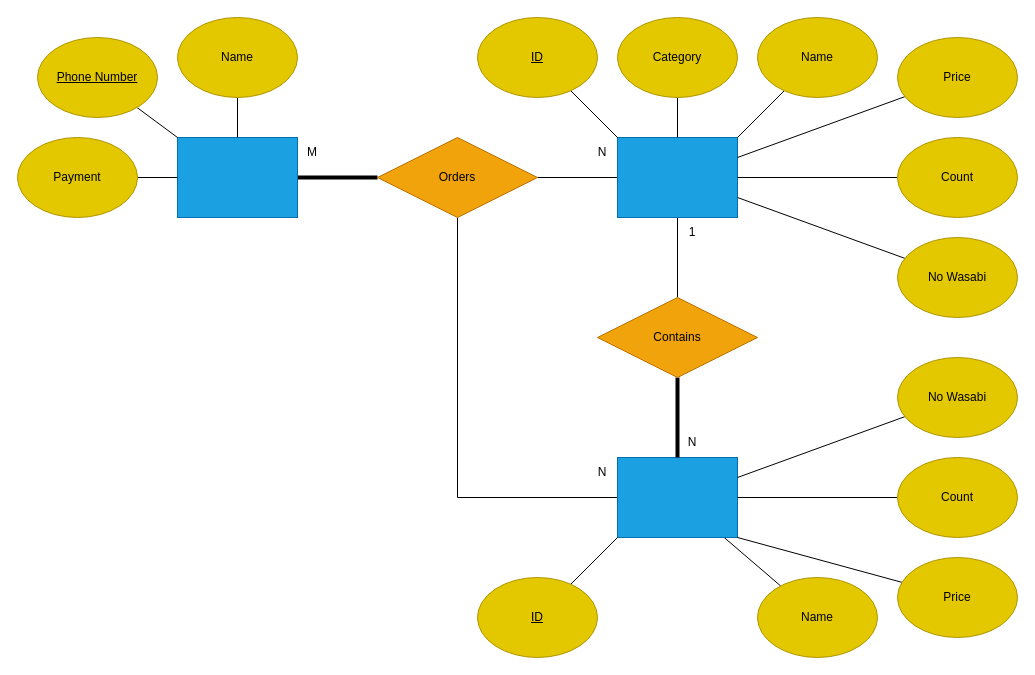
Image size: 1035x675. Some labels were removed from this diagram. Each missing label, with the centre of its shape:
"Combo Sushi" belongs at point (677, 177).
"Orderer" belongs at point (237, 177).
"Single Sushi" belongs at point (677, 497).
